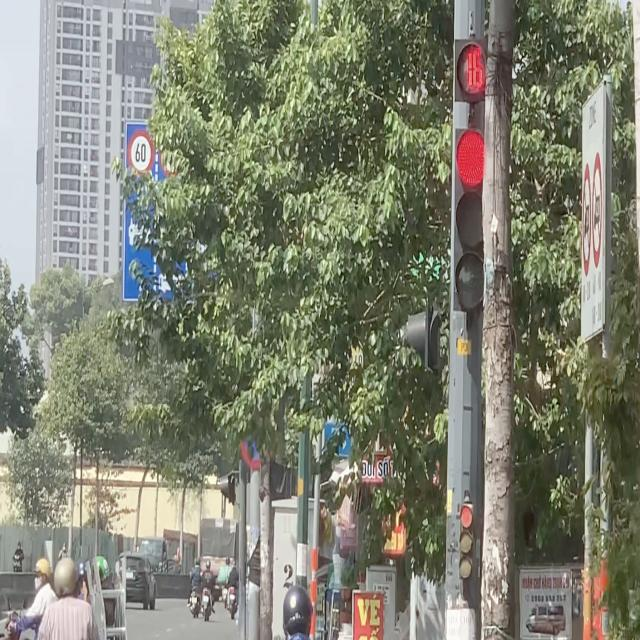Toc do toi da: (128, 130, 153, 176)
